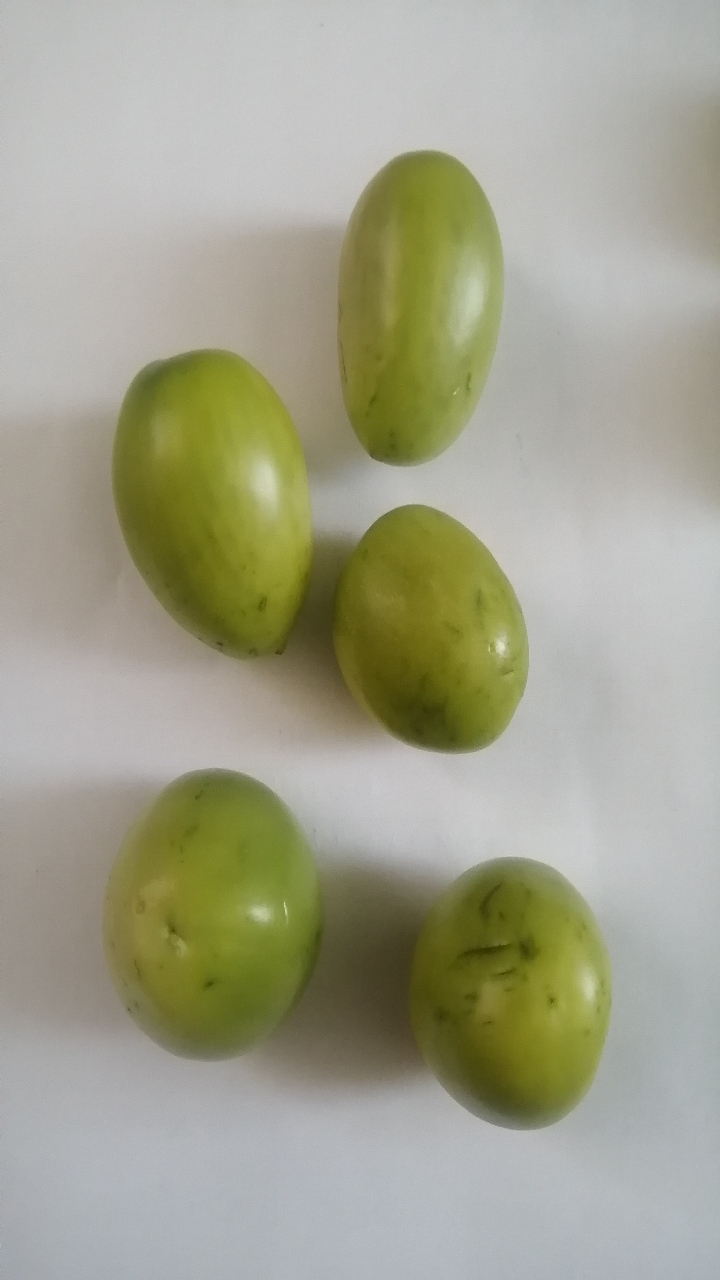tomateVerde: (71, 331, 341, 699), (94, 743, 338, 1080), (311, 137, 526, 499), (383, 831, 632, 1137), (317, 480, 564, 779)
